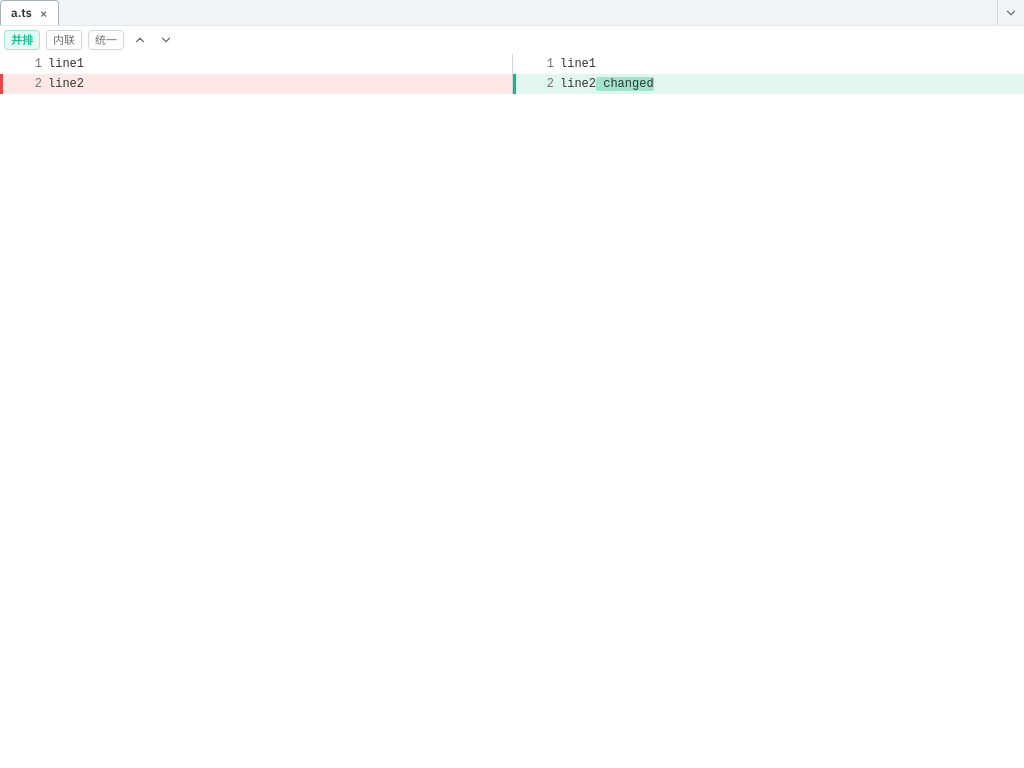
Test case: EditorArea 右键「发送到会话」（spec §9.4） › diff 右栏选区 → 右键 → 「发送到会话」→ 预览为绝对路径 + 新版本行号
Press the mouse on the 2nd element showing "line1" at (578, 64), box [560,57,596,71]
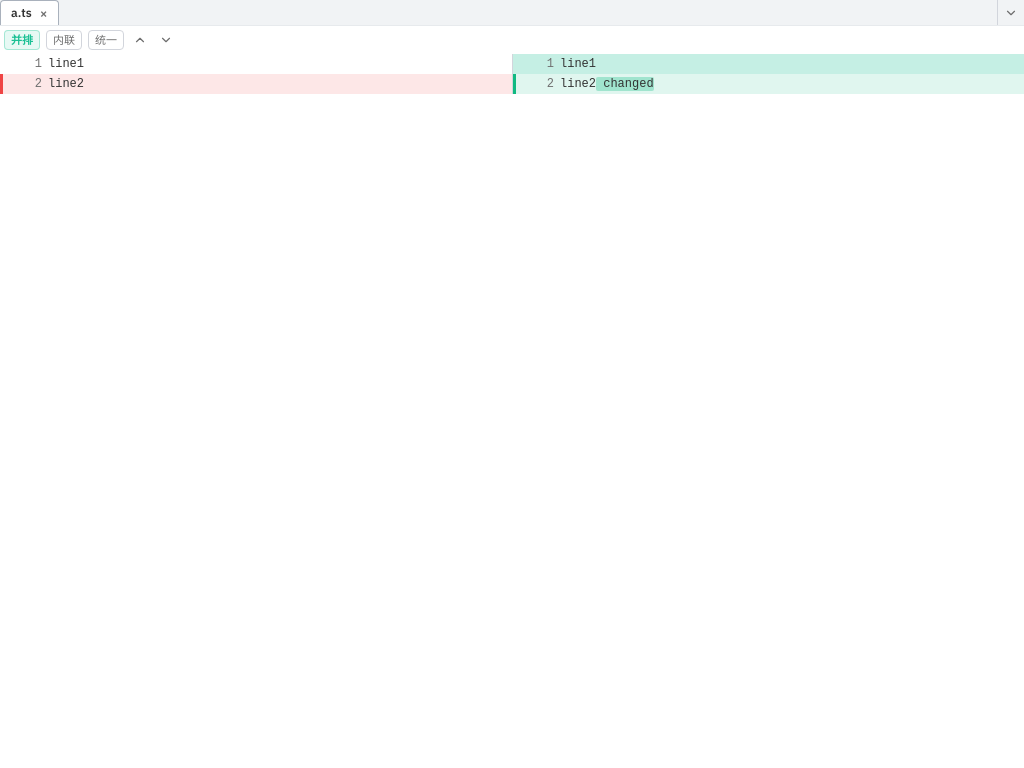
Right-click the 2nd element showing "line1" at (792, 64), box [560,54,1023,74]
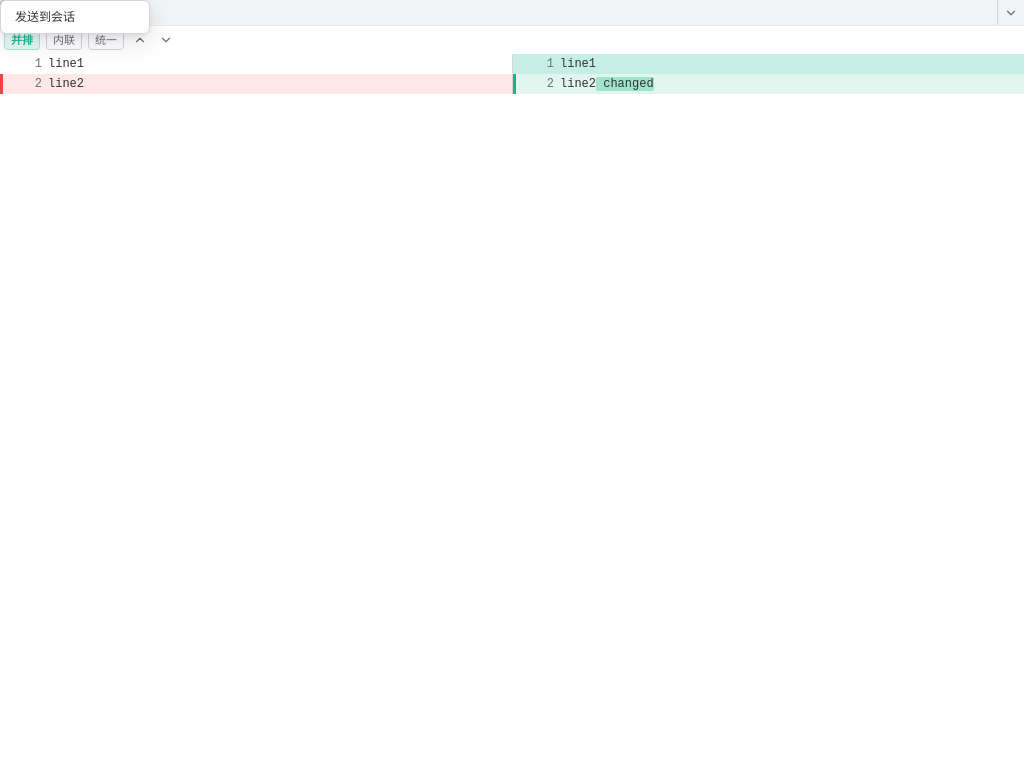
Click the menu item "发送到会话" at (75, 17), box [5,5,145,29]
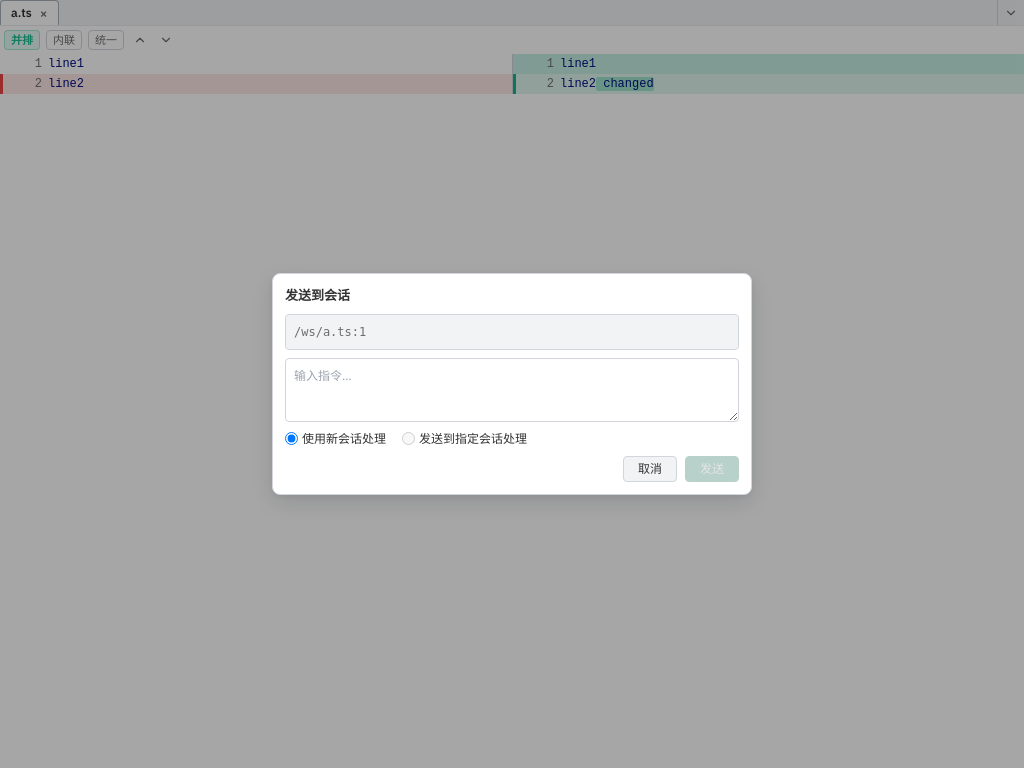
Now the text with test id "pm-send-dialog-preview" reads "/ws/a.ts:1", box [294,325,366,339]
